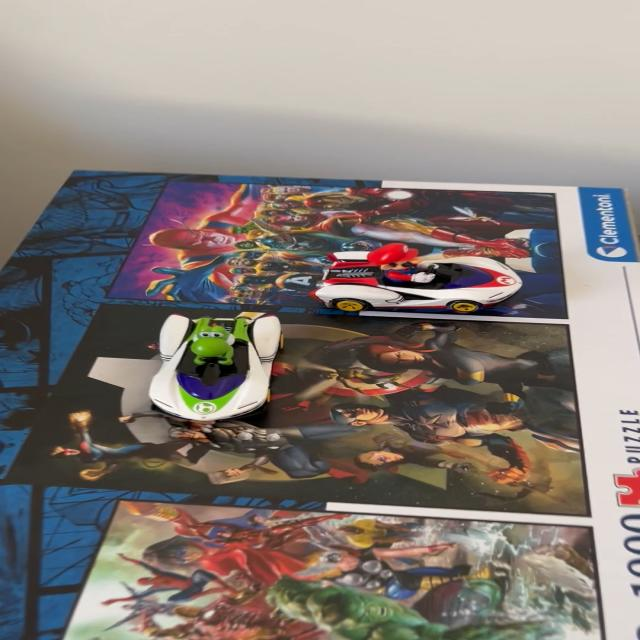mario: (298, 244, 538, 319)
yoshi: (130, 306, 290, 432)
